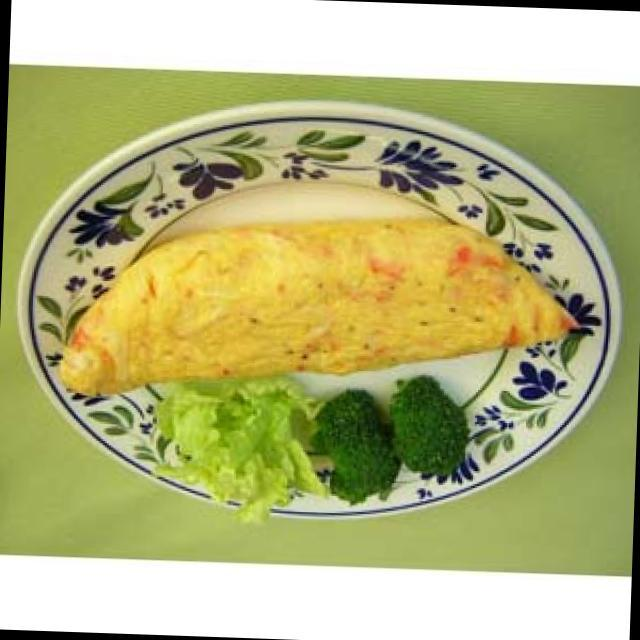Omelet: (53, 209, 605, 397)
